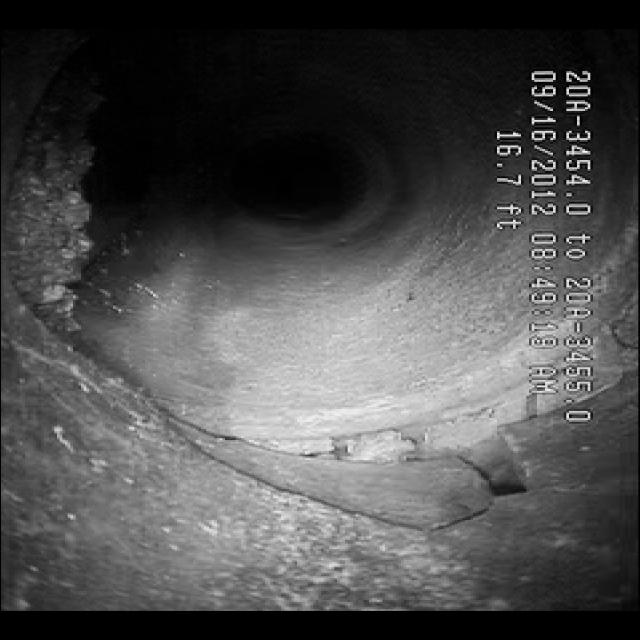Fracture: (148, 408, 528, 552)
